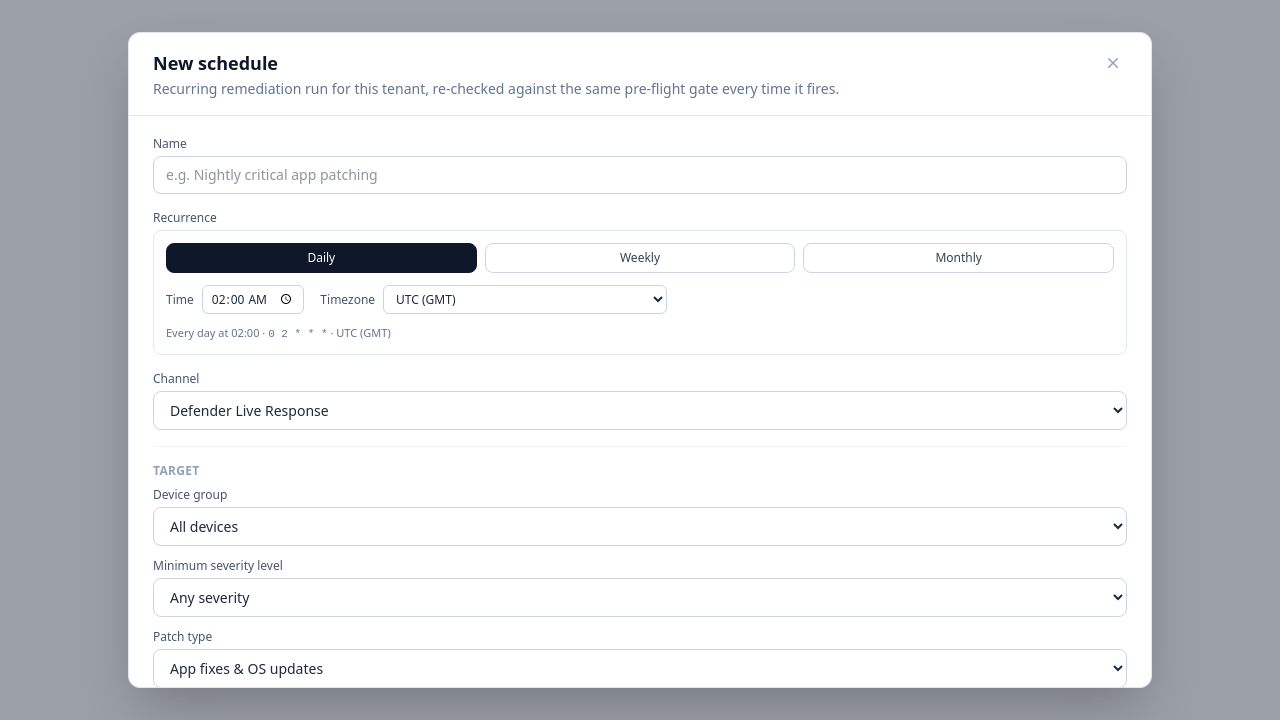
Scenario: NewScheduleModal › warns and disables Save when the engineer lacks operations:write
Type "Blocked schedule" into the field with placeholder "e.g. Nightly critical app patching" at {"x": 640, "y": 175}, box top-left (153, 156), bottom-right (1127, 194)
(page scrolled)
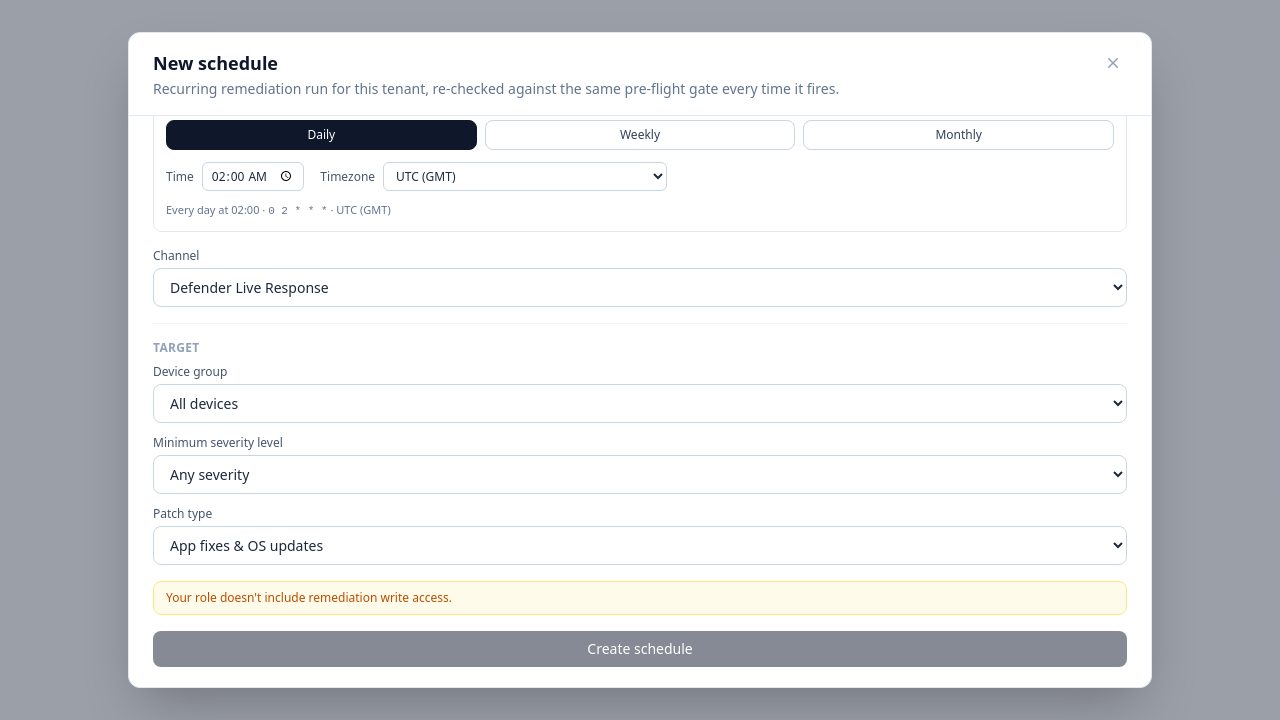
Expected: the button "Create schedule" is disabled, top-left (153, 631), bottom-right (1127, 667)
